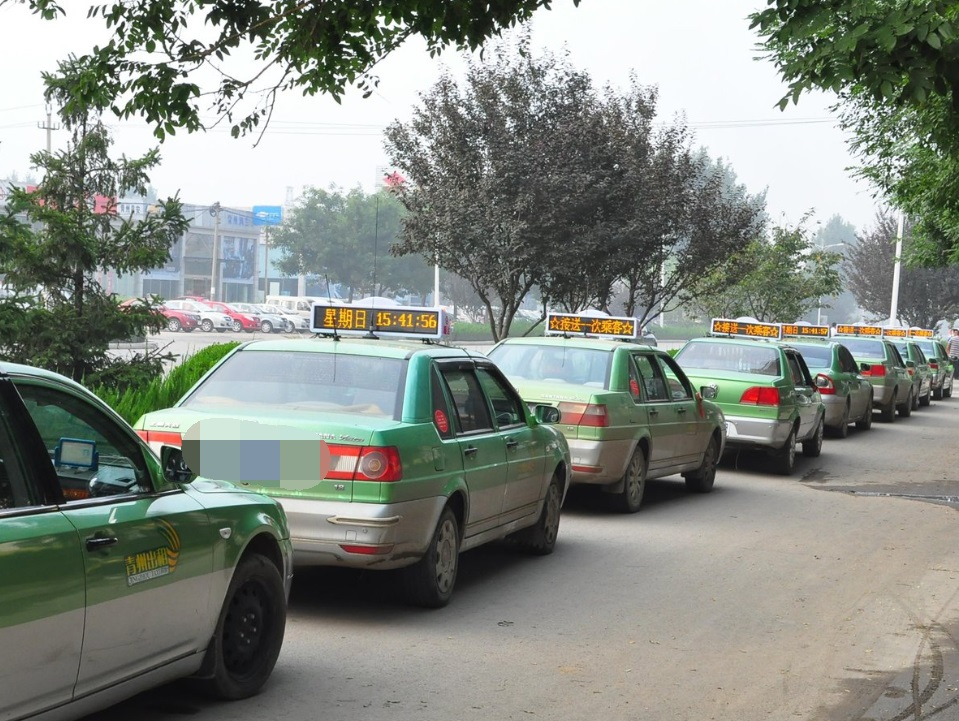taxi: (124, 304, 572, 616)
